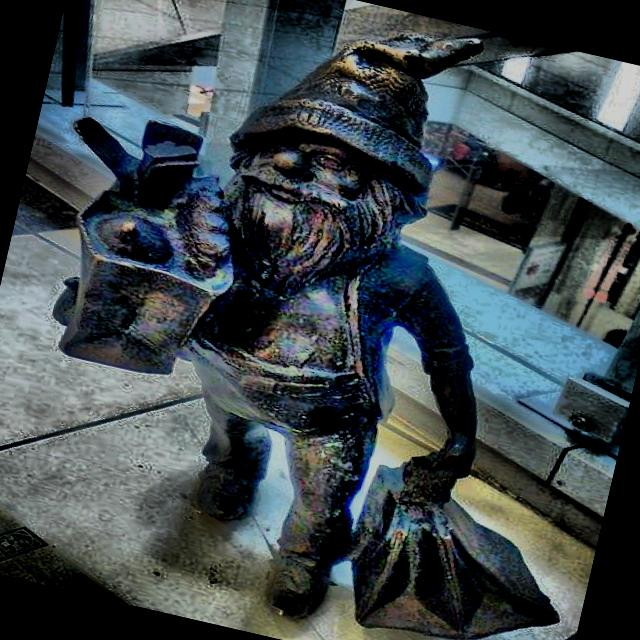Trendus: (54, 36, 556, 639)
